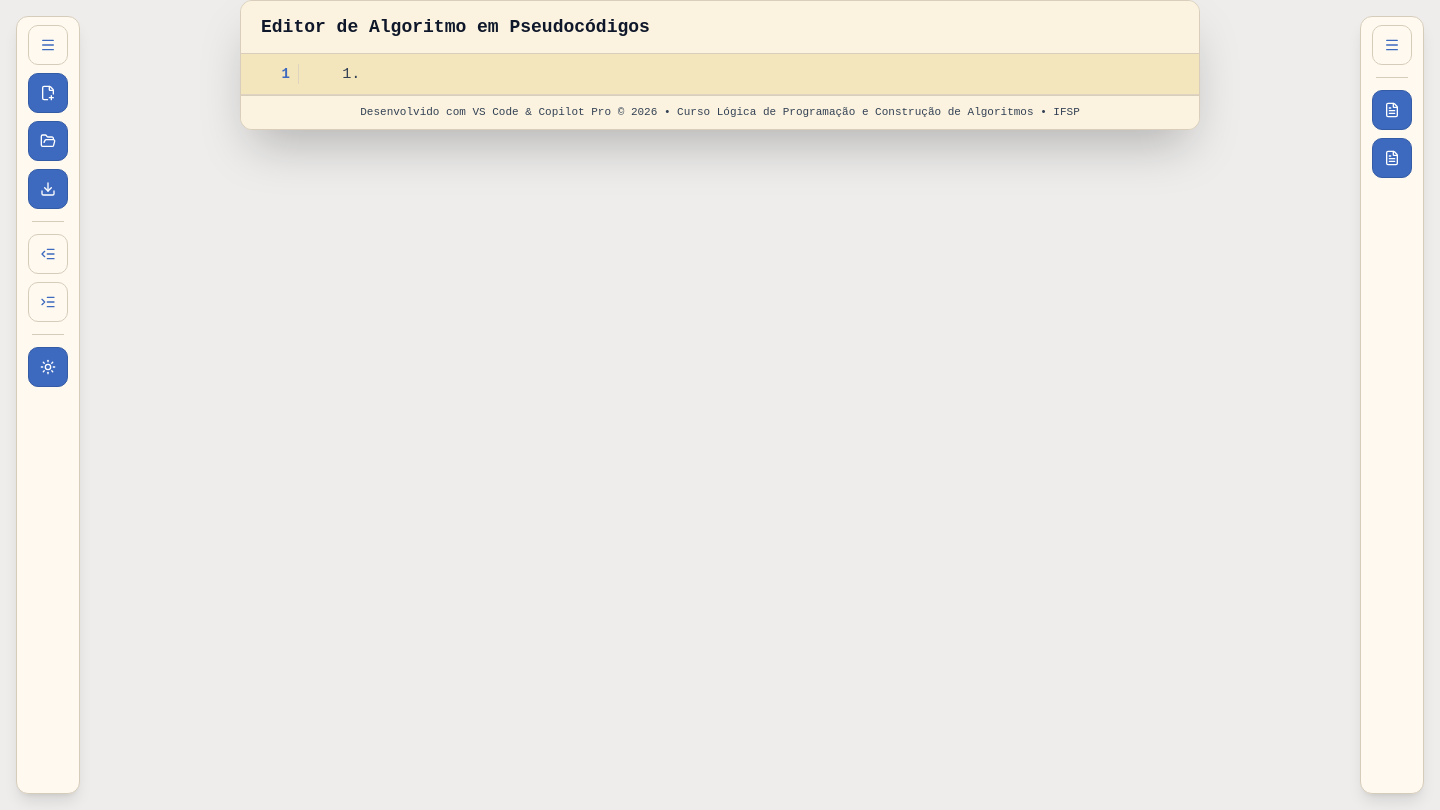
Scenario: AlgorithmEditor docs sidebar › collapses and expands docs sidebar
Step 1. Click the button named "Expandir sidebar de documentos" → point(1392, 45), box top-left (1372, 25), bottom-right (1412, 65)
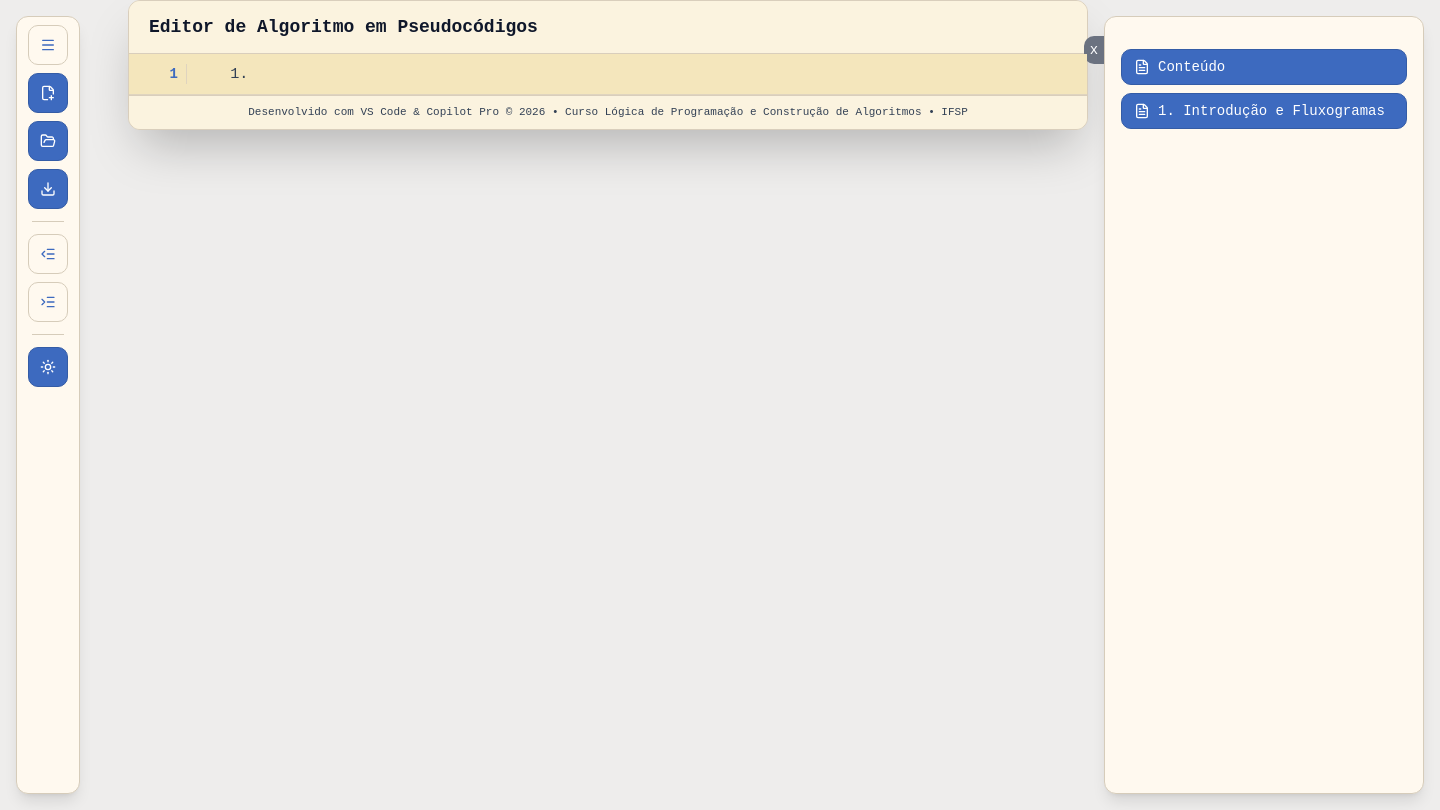
Now the button named "Recolher sidebar de documentos" is shown
Step 2. Click the button named "Recolher sidebar de documentos" → point(1094, 50), box top-left (1084, 36), bottom-right (1104, 64)
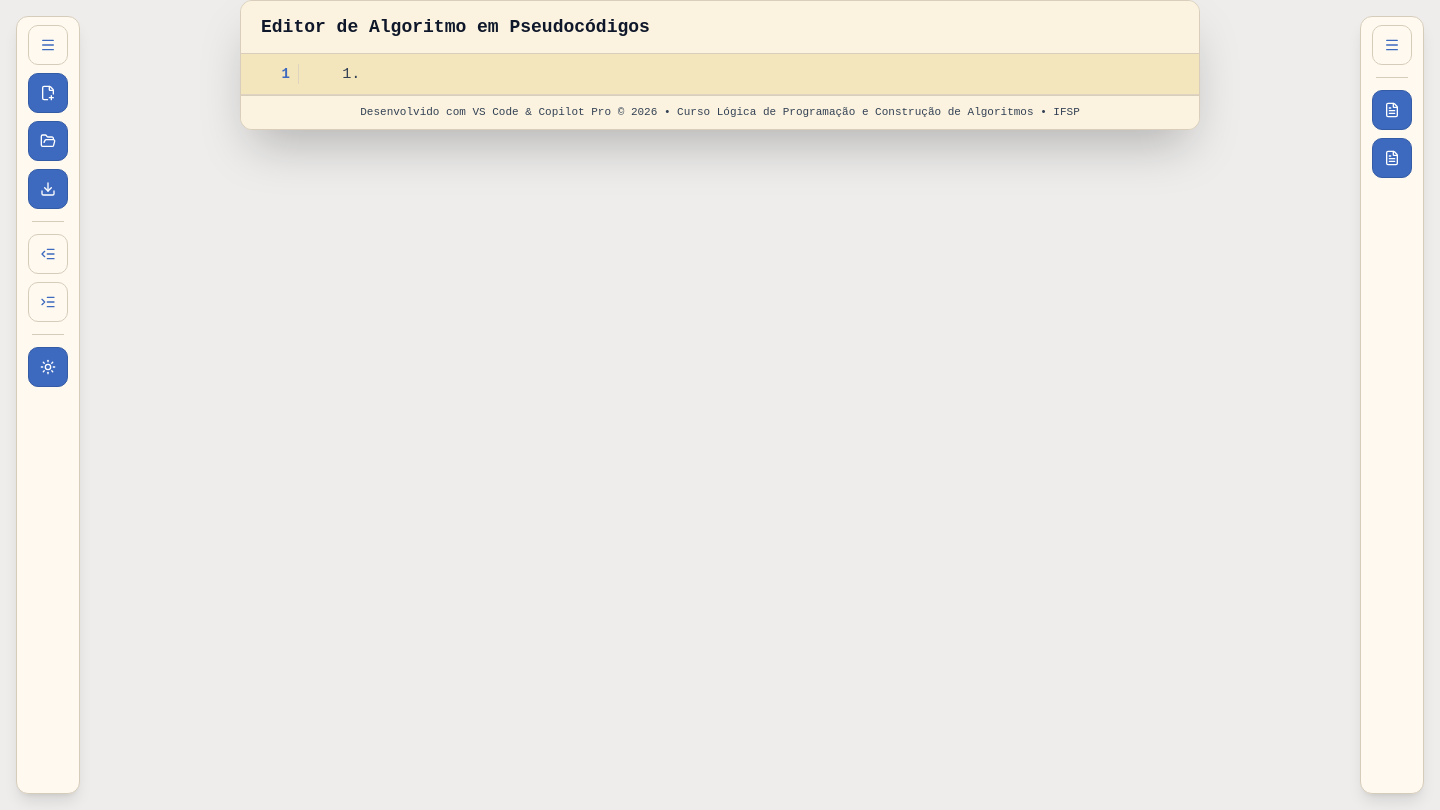
Now the button named "Expandir sidebar de documentos" is shown, box top-left (1372, 25), bottom-right (1412, 65)
